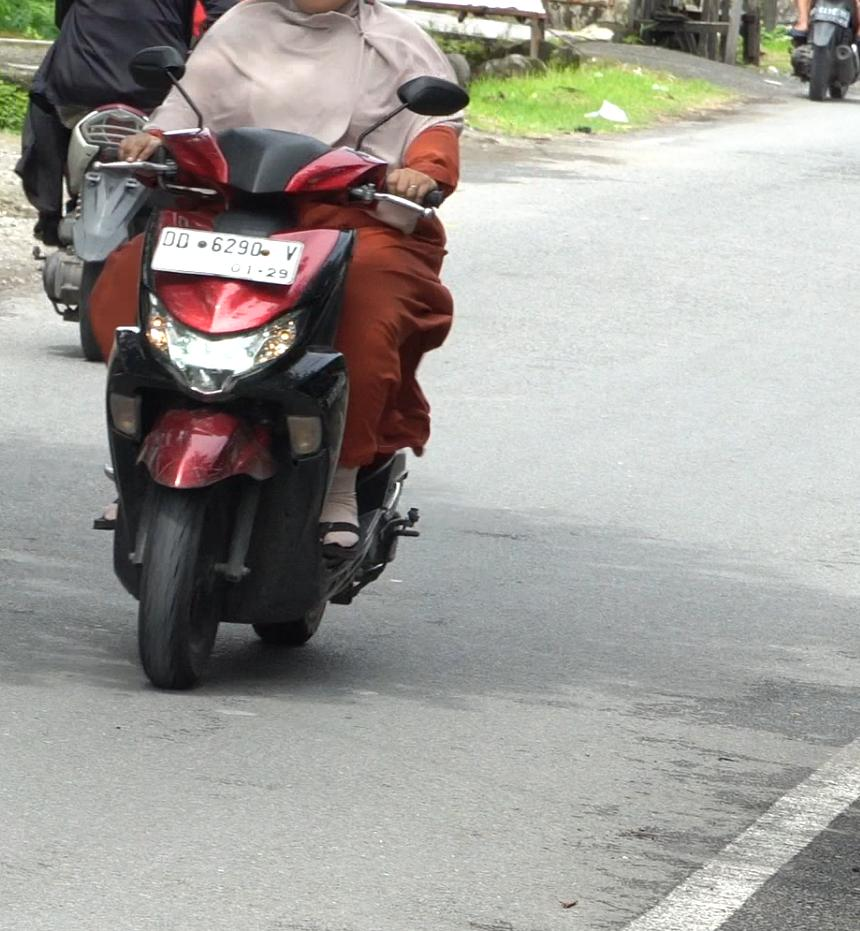number-plate: (156, 225, 298, 285)
